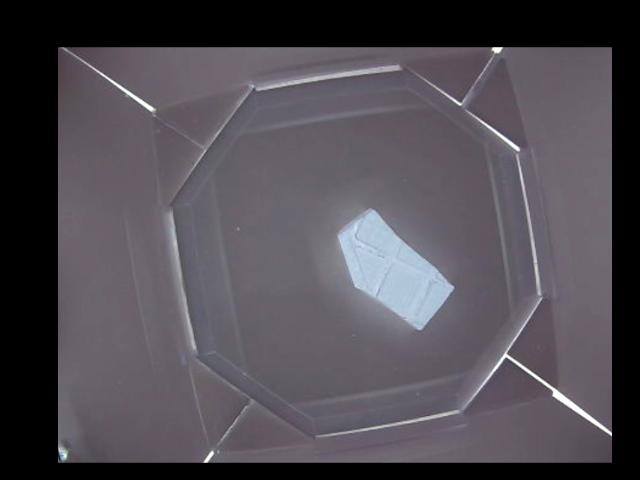China: (338, 210, 455, 332)
